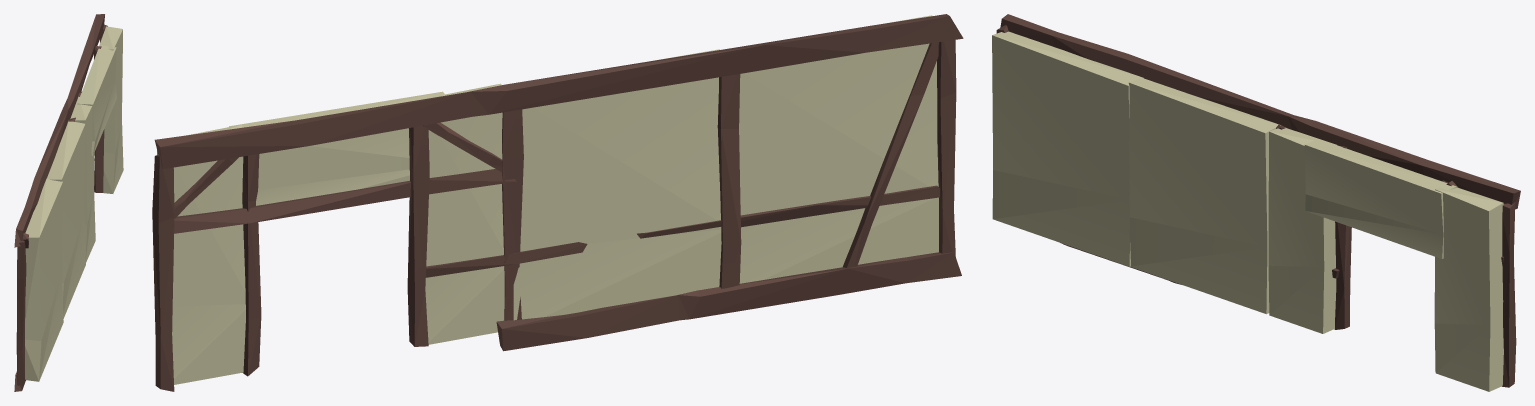
File: FrontWall.fbx
3 renders of one model, left to right at view 1: azimuth 30°, elevation 25°; view 2: azimuth 150°, elevation 25°; view 3: azimuth 270°, elevation 25°, orthographic. The views are drawn at different scales.
Parts seen in each view (by area): view 1: FrontWall_Merged; view 2: FrontWall_Merged; view 3: FrontWall_Merged.
Boxes of the visible parts, box(x1,y1,x2,y2) form: FrontWall_Merged: box(14, 14, 123, 391); FrontWall_Merged: box(152, 14, 963, 391); FrontWall_Merged: box(992, 14, 1520, 391).
Size of the model in its own units: 633 by 327 by 755.
